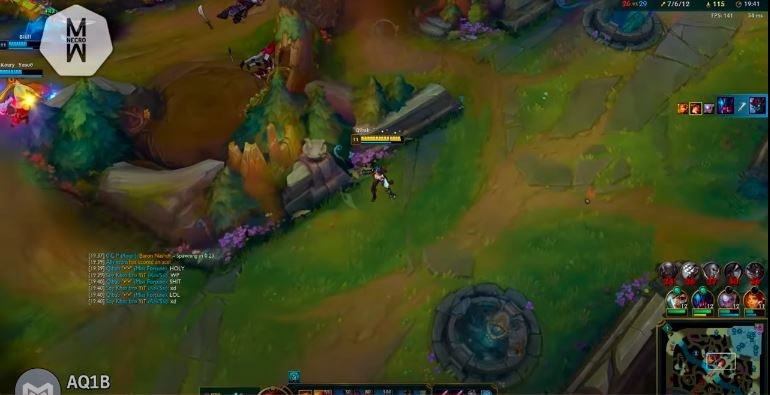bar: (1, 37, 60, 53), (348, 133, 407, 146), (1, 68, 46, 80)
